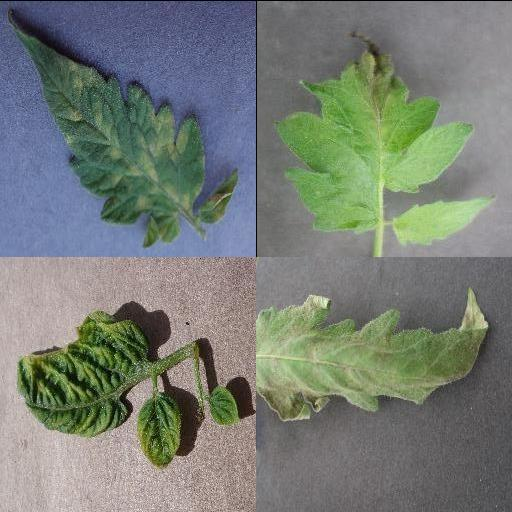Healthy: (391, 196, 497, 246)
Late Blight: (273, 26, 473, 234), (256, 284, 490, 420)
Leaf Mold: (5, 12, 205, 245), (197, 166, 241, 225)
Yellow Leaf Curl Virus: (16, 310, 152, 436), (137, 394, 183, 467)
